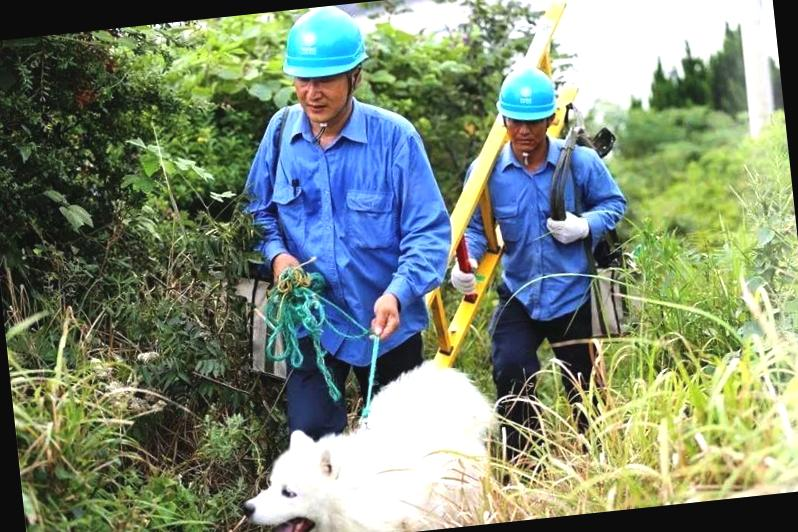helmet: (276, 2, 371, 84), (489, 61, 562, 126)
no_vest: (264, 102, 420, 352), (478, 134, 599, 315)
person: (223, 0, 472, 436), (446, 51, 648, 475)
